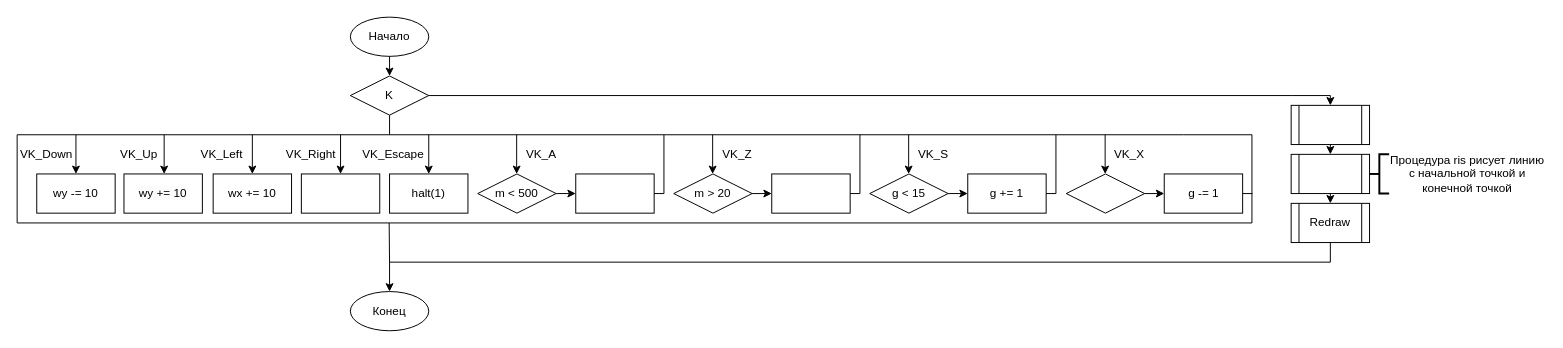
This 1563x348 diagram has some shape labels left out. Here are the shapes that lost their labels. From the top down, the box of each, then its label:
(1290, 104, 1370, 145): Window.Clear
(300, 173, 380, 213): wx -= 10
(575, 173, 654, 213): m += 10
(771, 173, 850, 213): g -= 10
(1065, 173, 1145, 213): g > 2
(1290, 153, 1370, 194): ris(wx-m,wy,wx+m,wy,g)
